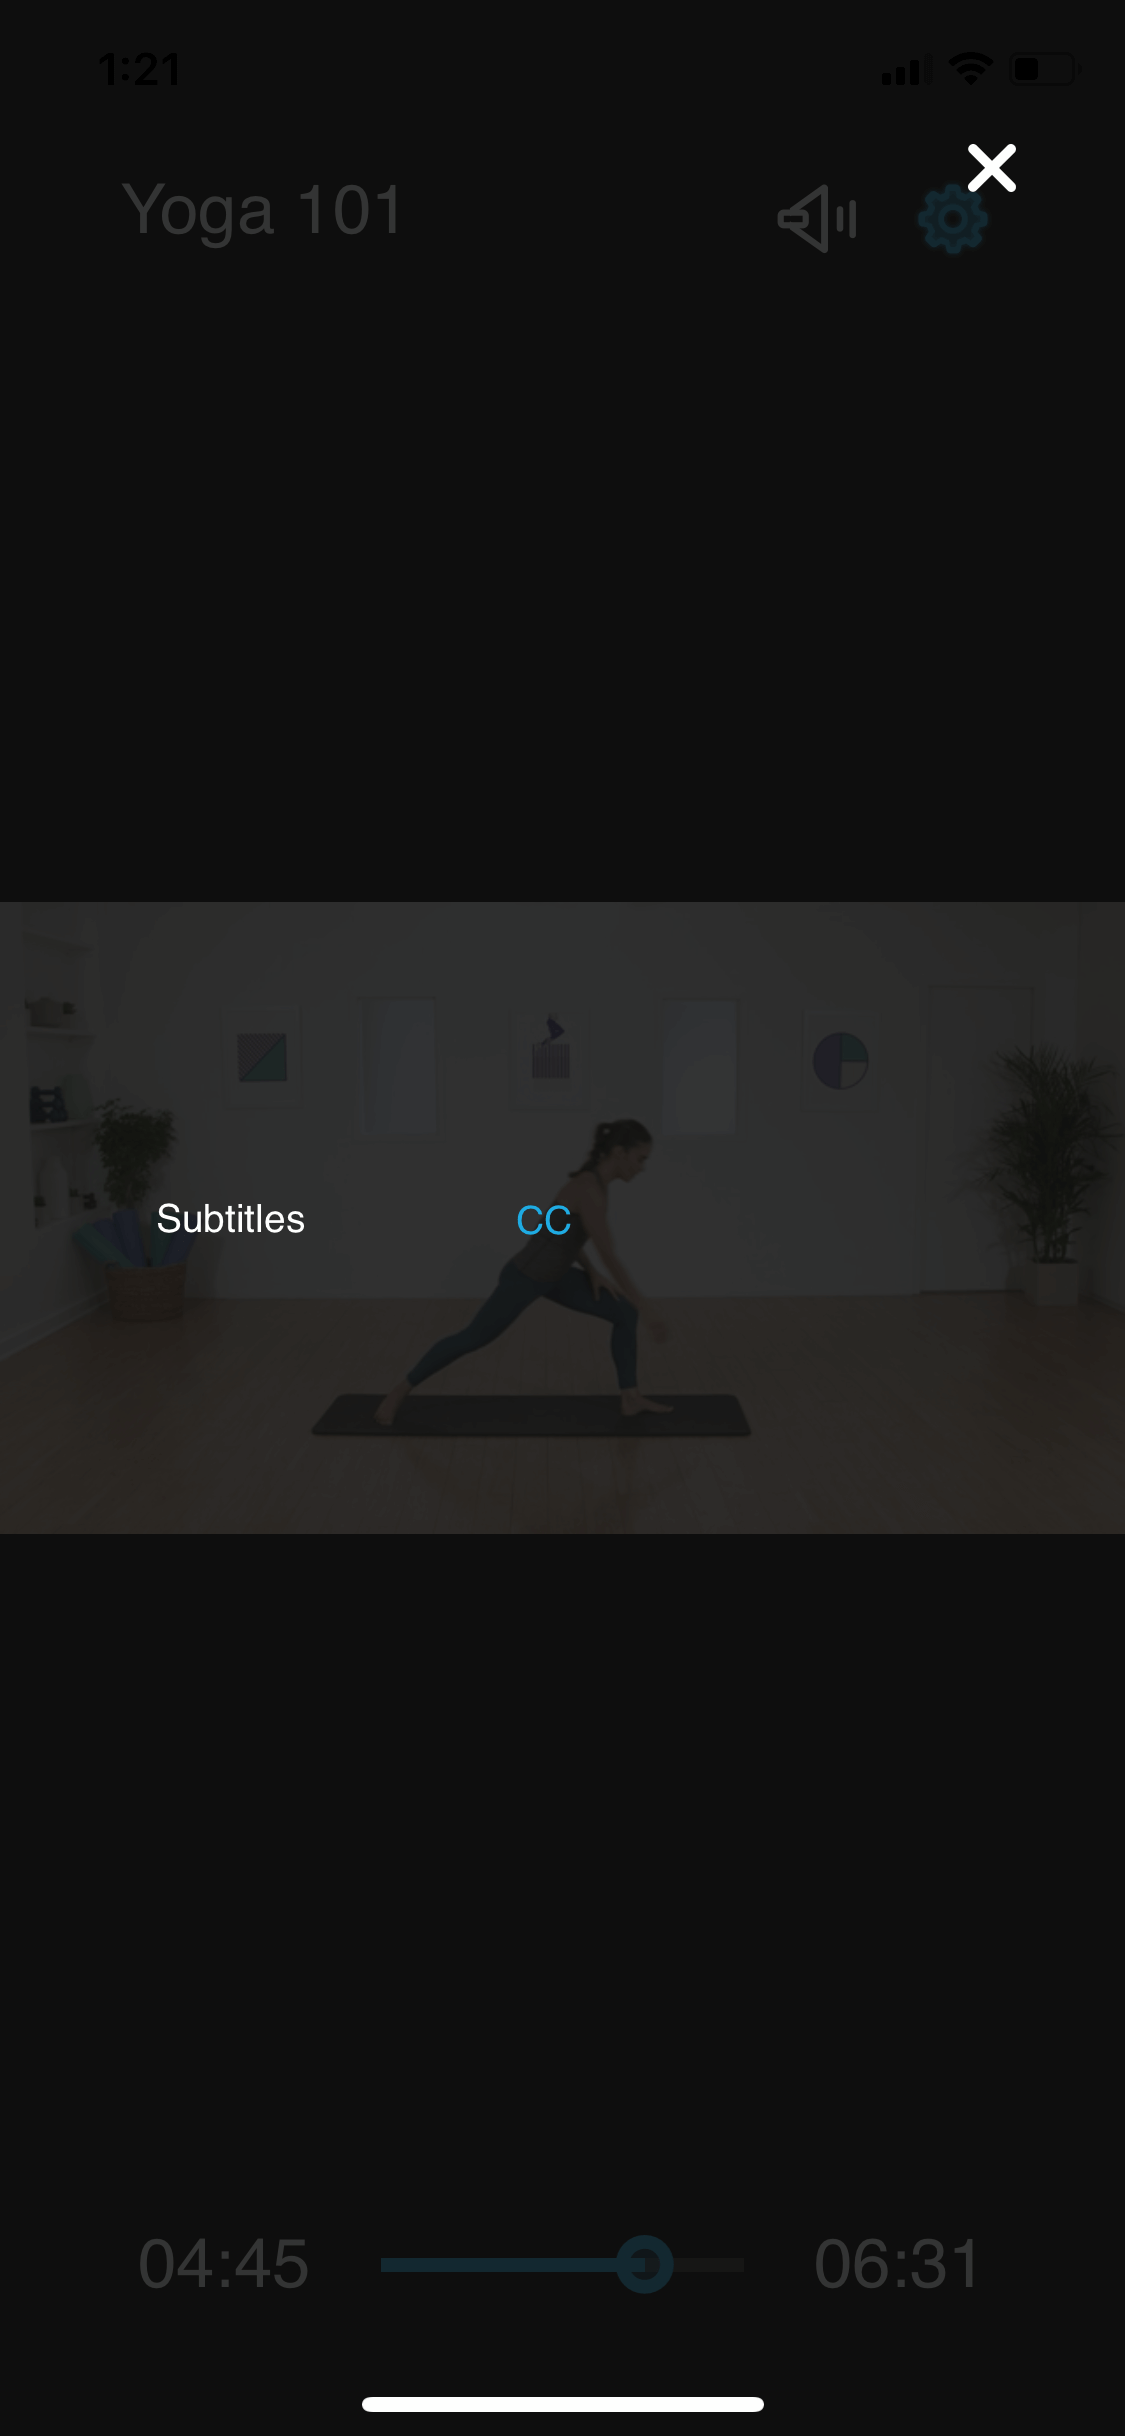Buttons: (928, 96, 1057, 225)
Progress indicators: (96, 2183, 1043, 2327)
